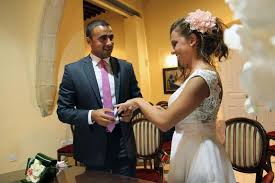middle_eastern_male: (90, 24, 123, 61)
